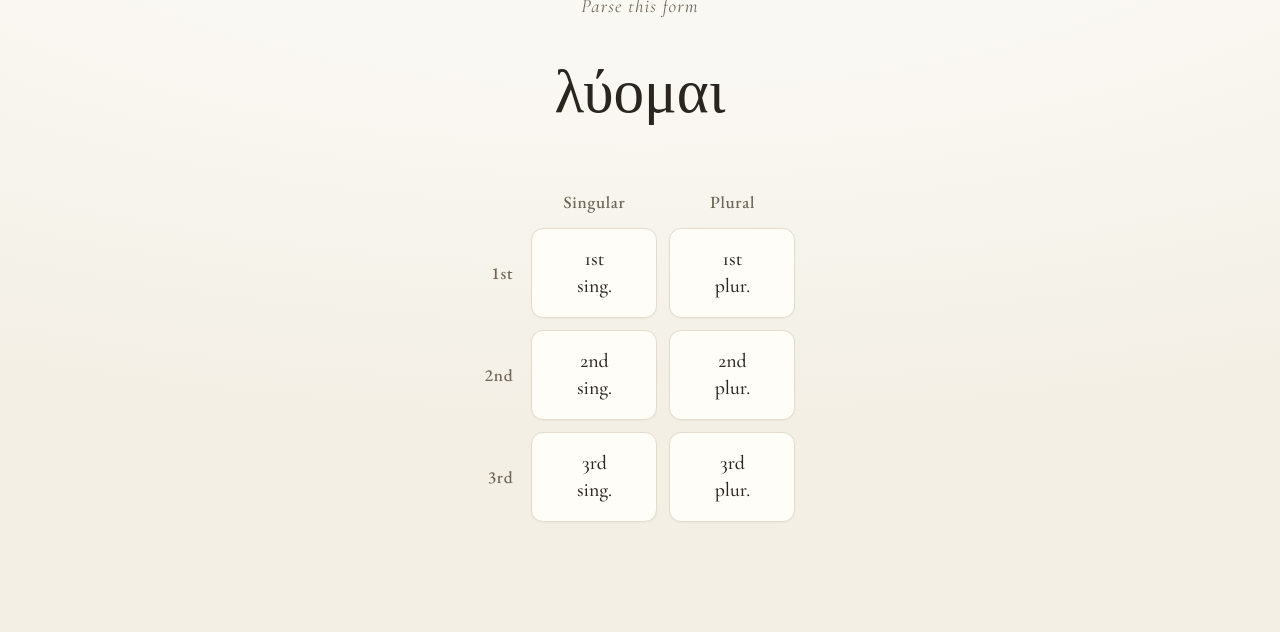
Test: PersonNumberParseGame › moves to a different form and reopens the grid on next
This screenshot has width=1280, height=632.
Click the 1st button with class "cell".
click(594, 273)  # box [532,228,658,318]
(page scrolled)
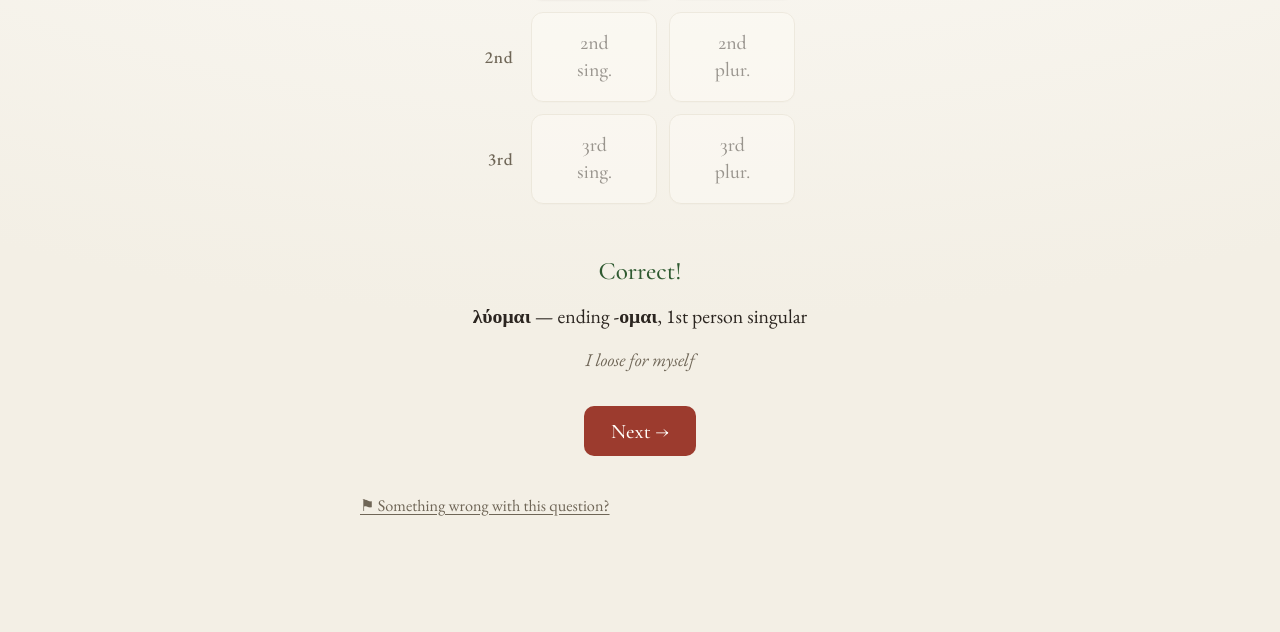
Click the button with class "next".
click(640, 431)  # box [584,406,696,456]
(page scrolled)
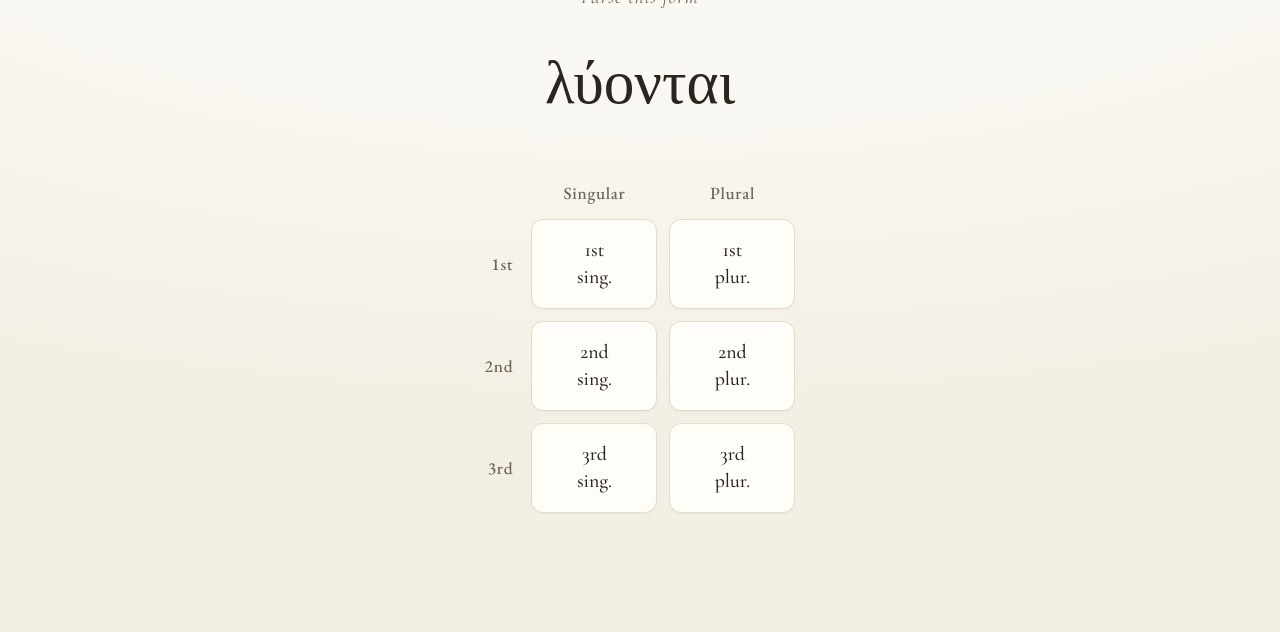
Now the text with class "luo__form" no longer shows "λύομαι"
